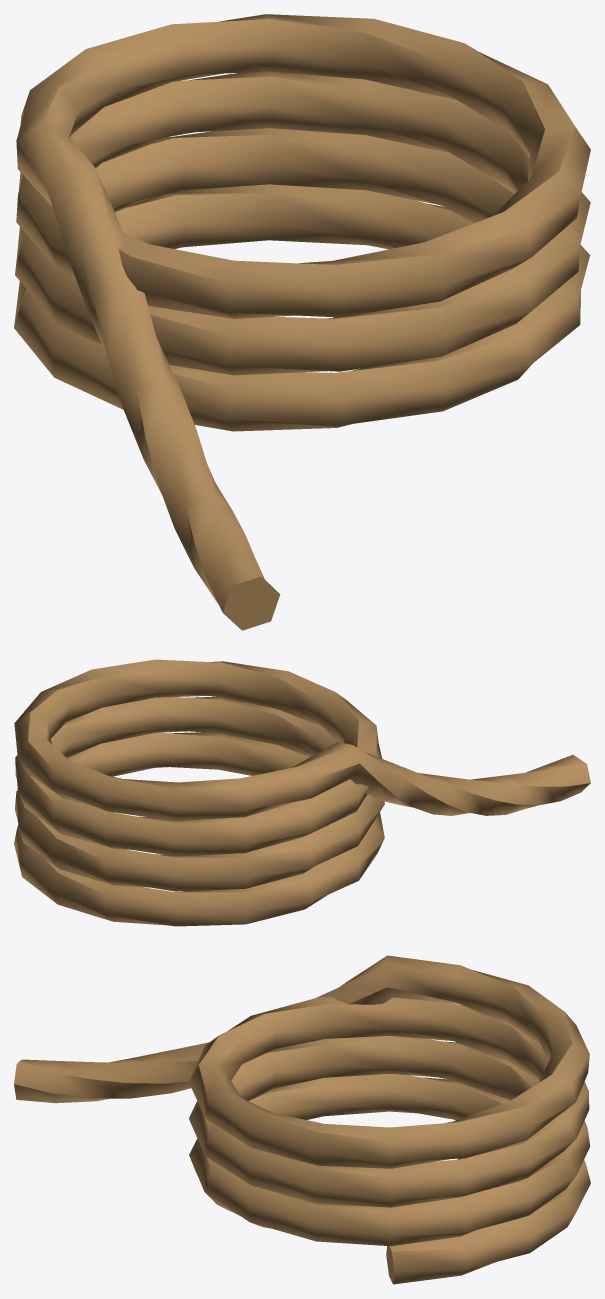
Rendered from coiled-rope_final.glb.
3 renders of one model, top to bottom at view 1: azimuth 30°, elevation 25°; view 2: azimuth 150°, elevation 25°; view 3: azimuth 270°, elevation 25°, orthographic. The views are drawn at different scales.
Parts seen in each view (by area): view 1: SM_CoiledRope; view 2: SM_CoiledRope; view 3: SM_CoiledRope.
Boxes of the visible parts, x1,y1,x2,y2 form: SM_CoiledRope: (14,14,590,630); SM_CoiledRope: (14,659,590,926); SM_CoiledRope: (14,955,590,1284).
Bounding box in the file's own units: 0.4489 × 0.1769 × 0.5438.
